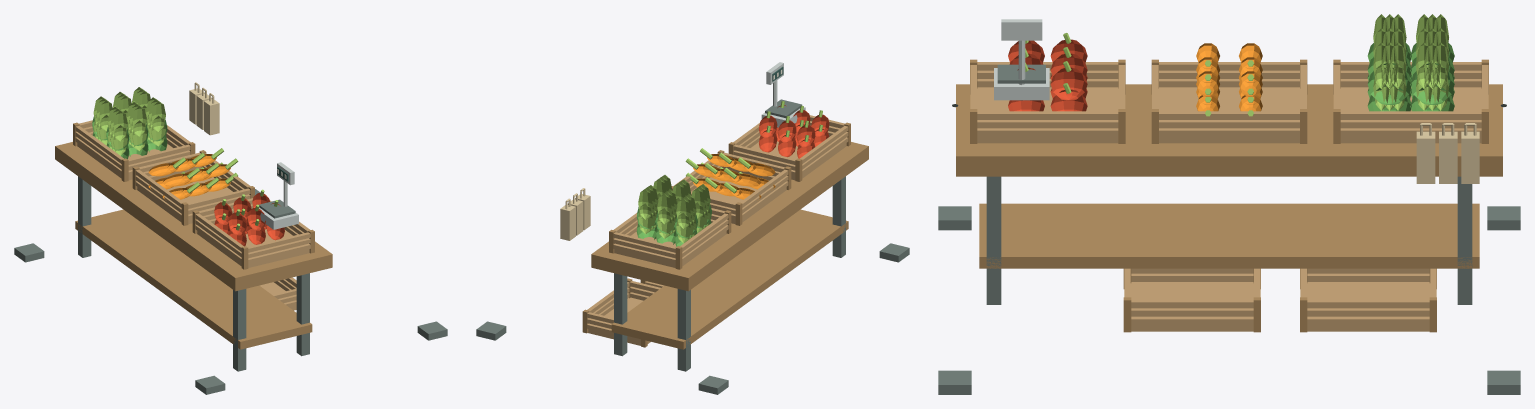
Rendered from market-vegetables-table.glb.
3 views of the same model, side by side, from view 1: azimuth 30°, elevation 25°; view 2: azimuth 150°, elevation 25°; view 3: azimuth 270°, elevation 25° (orthographic). The views are drawn at different scales.
Visible parts, largest first — view 1: vegetables market stall; view 2: vegetables market stall; view 3: vegetables market stall.
Part boxes in pixels (x1,y1,x2,y2): vegetables market stall: (14,82,447,394); vegetables market stall: (476,62,909,394); vegetables market stall: (938,14,1520,394).
Size of the model in its own units: 2.28 by 1.69 by 3.14.
